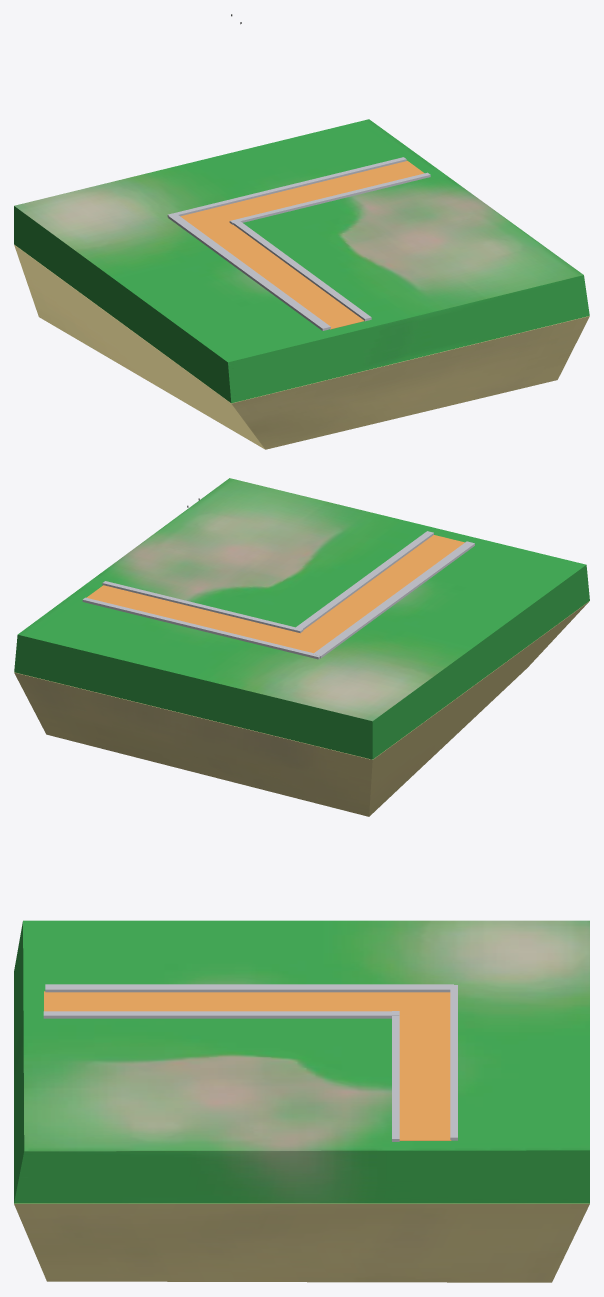
The model's file is floor.glb.
3 renders of one model, top to bottom at view 1: azimuth 30°, elevation 25°; view 2: azimuth 150°, elevation 25°; view 3: azimuth 270°, elevation 25°, orthographic. The views are drawn at different scales.
Parts seen in each view (by area): view 1: Cube, Cube.001, Cube.032, Cube.002, Cube.003; view 2: Cube, Cube.001, Cube.032, Cube.002, Cube.003; view 3: Cube, Cube.001, Cube.032, Cube.002, Cube.003.
Part boxes in pixels (box(x1,y1,x2,y2)): Cube: box(14, 119, 589, 403); Cube.001: box(14, 244, 589, 449); Cube.032: box(167, 157, 430, 330); Cube.002: box(180, 208, 364, 329); Cube.003: box(214, 160, 424, 220); Cube: box(14, 478, 589, 759); Cube.001: box(14, 601, 589, 816); Cube.032: box(82, 531, 474, 659); Cube.002: box(281, 535, 464, 653); Cube.003: box(86, 585, 297, 644); Cube: box(14, 920, 589, 1203); Cube.001: box(14, 1203, 589, 1282); Cube.032: box(43, 984, 457, 1141); Cube.002: box(44, 991, 450, 1015); Cube.003: box(399, 1015, 451, 1140).
Size of the model in its own units: 731 by 509 by 767.
7 materials, 5 textured.
